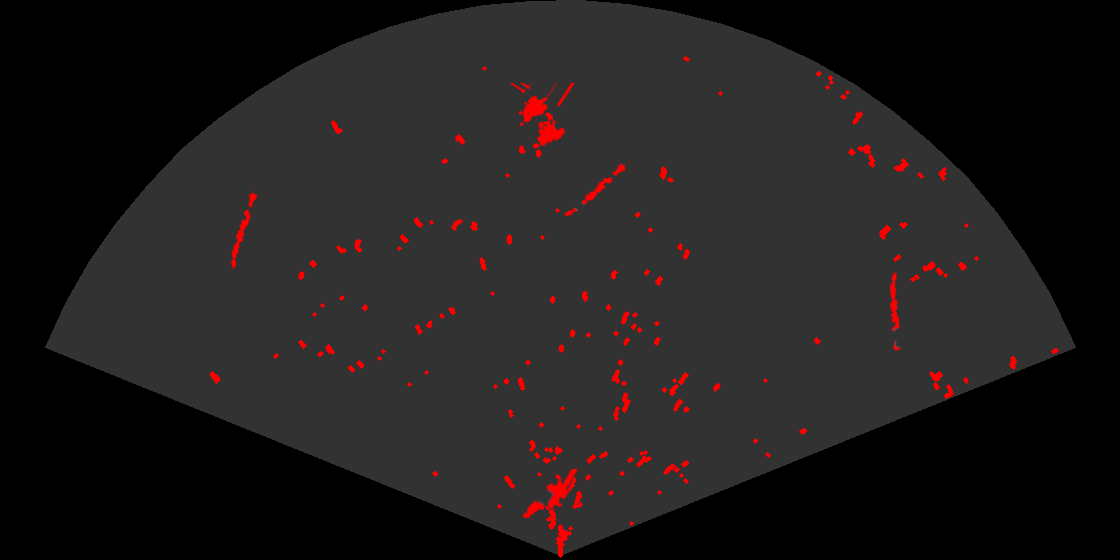cage: (508, 83, 576, 148)
chain: (563, 157, 636, 218), (229, 186, 259, 270), (888, 270, 903, 352)
frogman: (521, 469, 578, 520)
